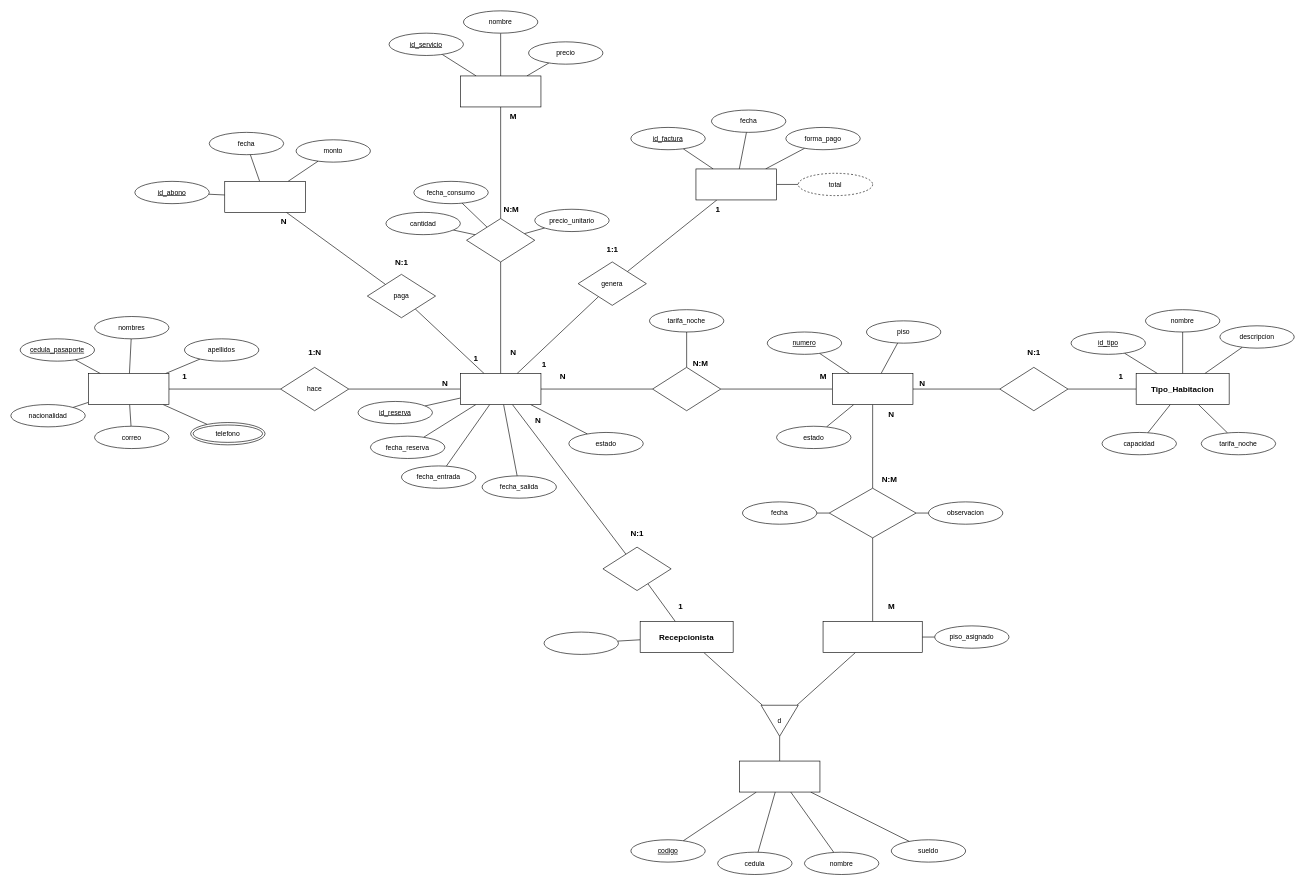
Image size: 1305x885. Some labels were removed from this diagram. Here are the shapes that lost their labels. From the top down, the centre of each, then its label:
point 500,91: Servicio
point 264,196: Abono
point 736,184: Factura
point 500,240: consume
point 128,389: Huesped
point 500,389: Reserva
point 686,389: incluye
point 872,389: Habitacion
point 1033,389: clasifica
point 872,513: mantenimiento
point 636,569: registra
point 580,642: turno
point 872,637: Personal_Limpieza
point 779,776: Empleado
